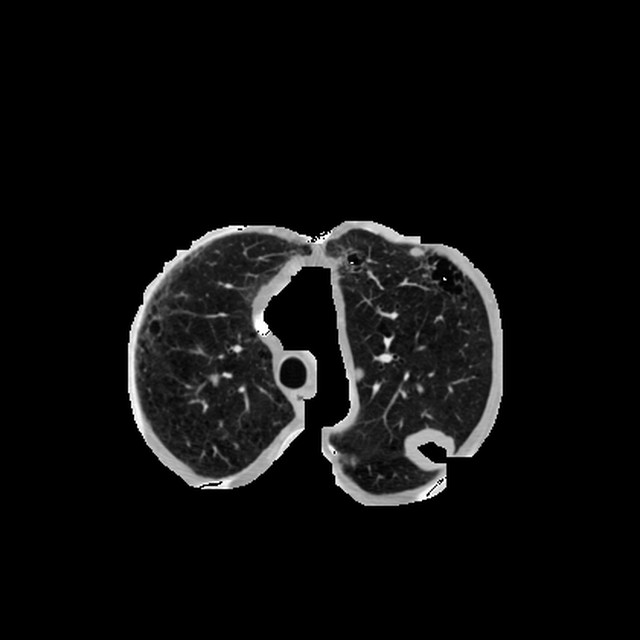PN: (408, 245, 421, 258)
